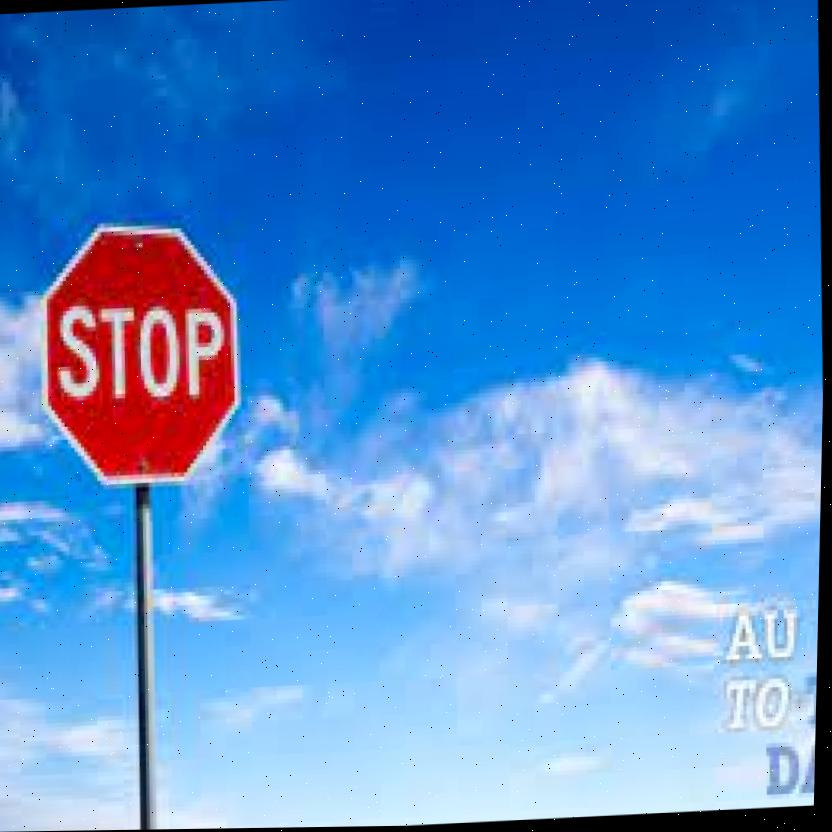Pole: (130, 486, 165, 830)
Sign: (37, 222, 243, 488)
